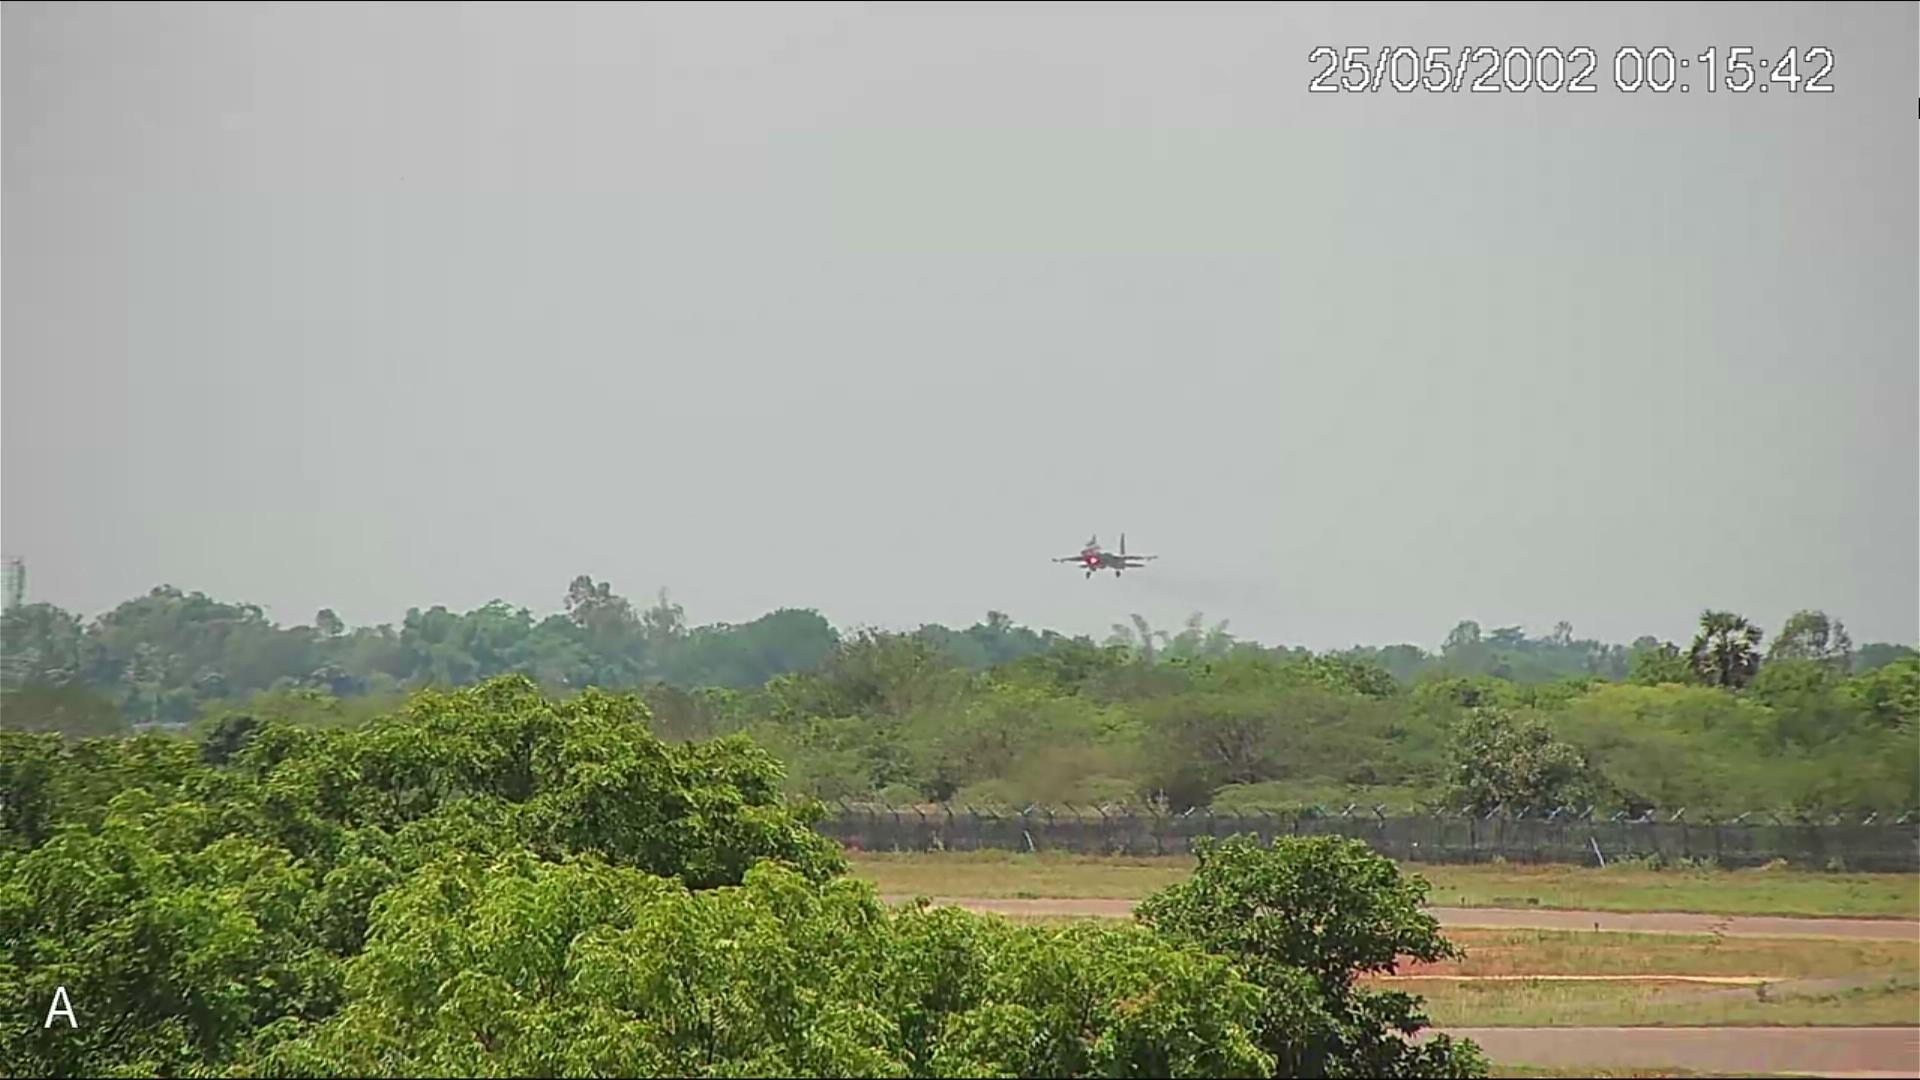SU_30: (1050, 531, 1160, 585)
